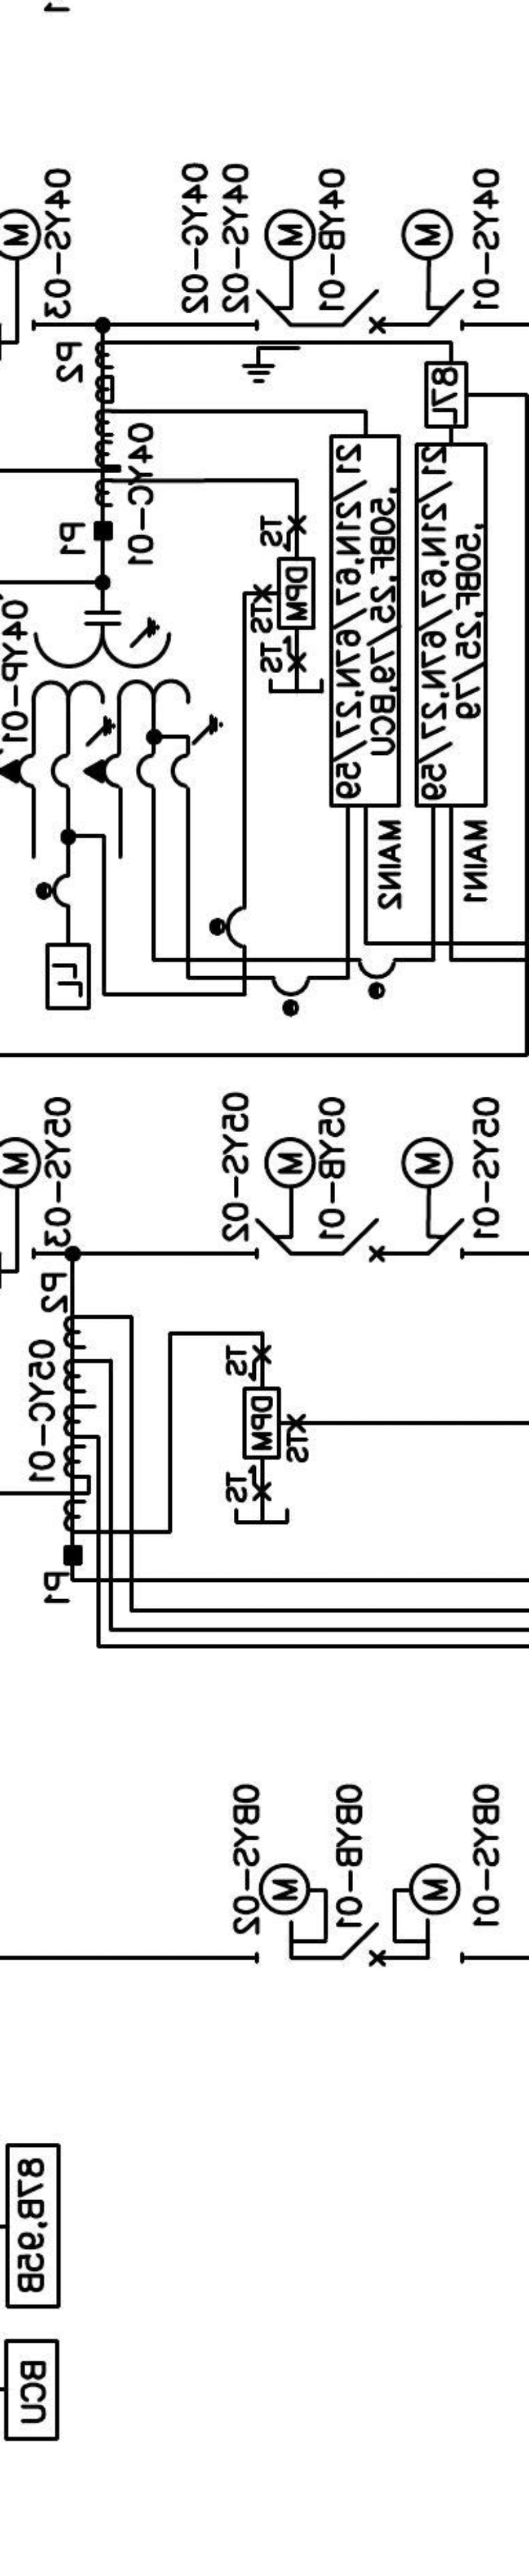115_1way_ds_w_motor: (399, 1137, 465, 1262), (401, 207, 465, 332), (255, 1135, 317, 1260), (255, 1861, 329, 1965), (393, 1861, 465, 1965)
115_3ways_ds_w_motor: (242, 207, 317, 384)
115_breaker: (340, 1217, 386, 1263), (342, 1922, 386, 1968), (342, 289, 386, 333)
BCU: (3, 2338, 61, 2443)
DPM: (276, 555, 315, 631), (242, 1387, 281, 1460)
LL: (44, 941, 92, 1012)
